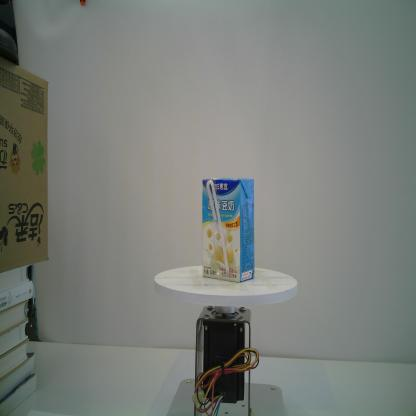Milk: (201, 176, 256, 282)
